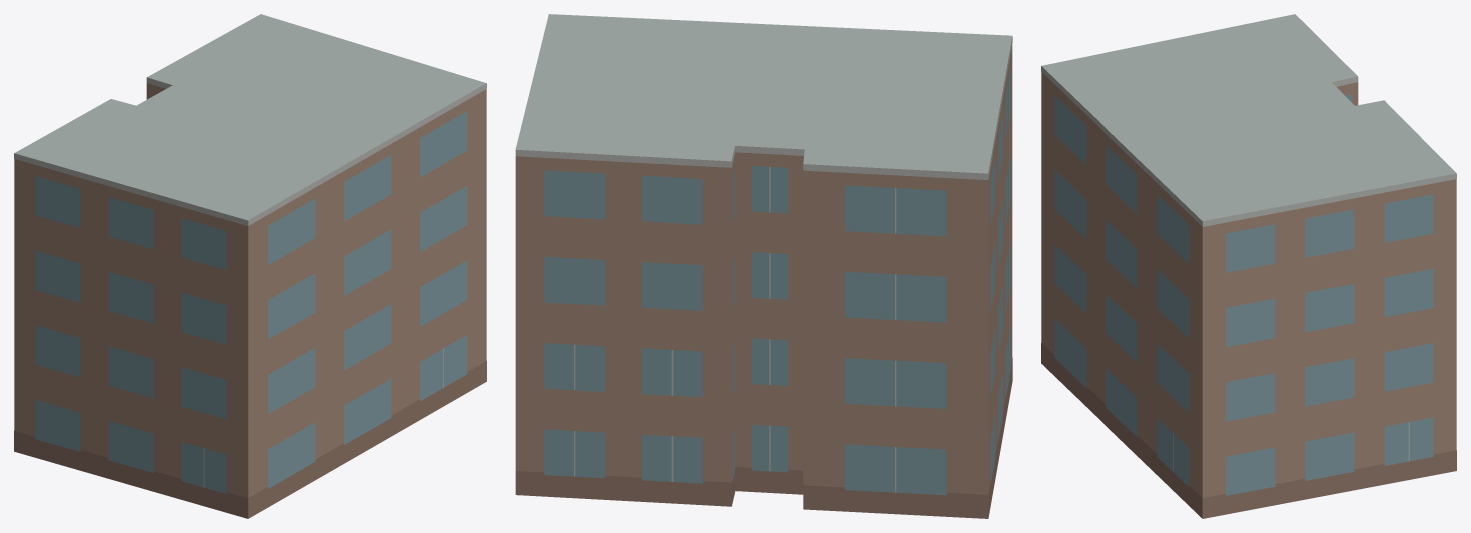
The model's file is survey-upis-32728299.glb.
3 renders of one model, left to right at view 1: azimuth 30°, elevation 25°; view 2: azimuth 150°, elevation 25°; view 3: azimuth 270°, elevation 25°, orthographic. The views are drawn at different scales.
Visible parts, largest first — view 1: survey-upis-32728299.tmp; view 2: survey-upis-32728299.tmp; view 3: survey-upis-32728299.tmp.
Part boxes in pixels (left/top/right/bottom): survey-upis-32728299.tmp: left=14, top=14, right=486, bottom=518; survey-upis-32728299.tmp: left=515, top=14, right=1012, bottom=518; survey-upis-32728299.tmp: left=1041, top=14, right=1456, bottom=518.
Size of the model in its own units: 19.44 by 13 by 16.47.
